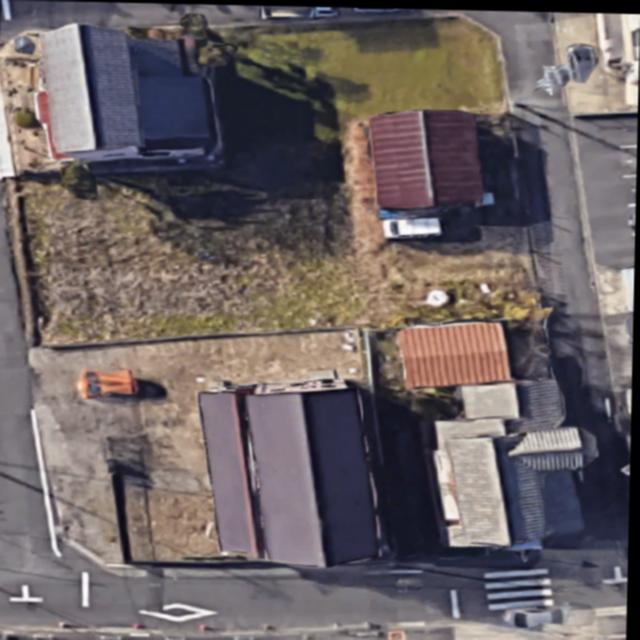Batiment: (201, 380, 380, 566), (14, 24, 219, 162), (435, 376, 598, 544), (370, 108, 483, 207), (398, 320, 512, 386)
